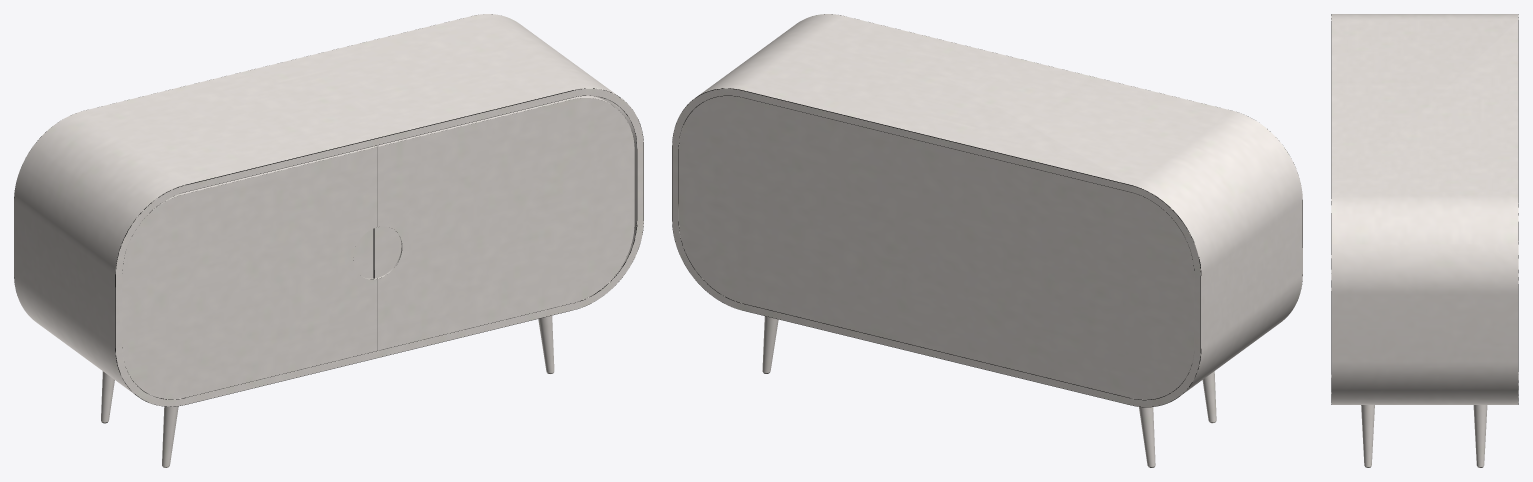
Rendered from rounded-commode-4k-baked.glb.
The picture shows the model from 3 angles, left to right: view 1: azimuth 30°, elevation 25°; view 2: azimuth 150°, elevation 25°; view 3: azimuth 270°, elevation 25°; orthographic projection. The views are drawn at different scales.
Visible parts, largest first — view 1: rounded-commode-4k-baked-mesh; view 2: rounded-commode-4k-baked-mesh; view 3: rounded-commode-4k-baked-mesh.
Part boxes in pixels (x1,y1,x2,y2): rounded-commode-4k-baked-mesh: [14, 14, 643, 467]; rounded-commode-4k-baked-mesh: [672, 14, 1302, 467]; rounded-commode-4k-baked-mesh: [1331, 14, 1518, 467].
Size of the model in its own units: 1.5 by 0.8036 by 0.4999.
Materials: 1 (1 with a texture image).
